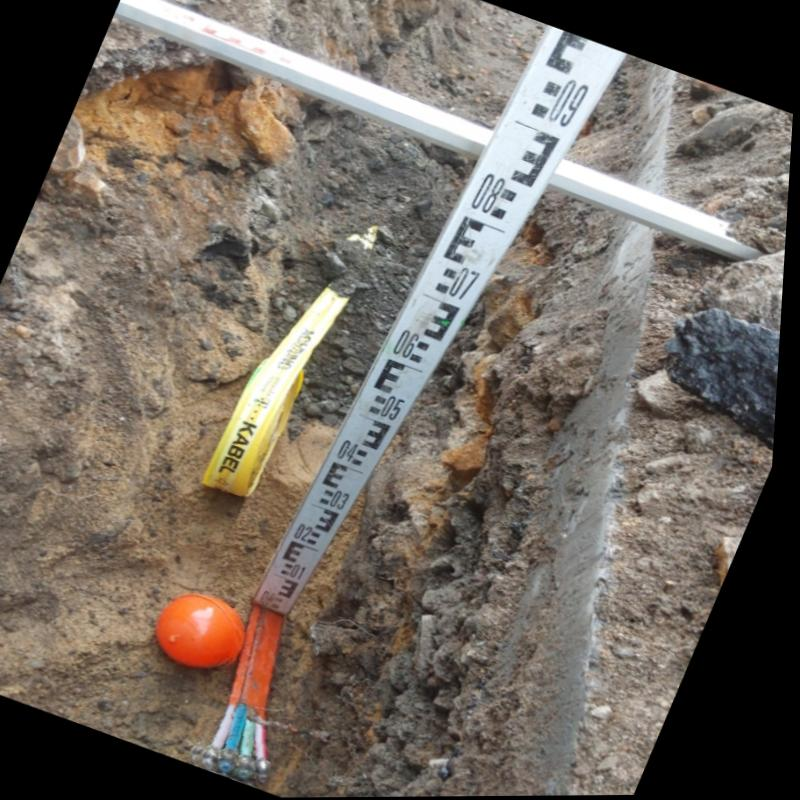Kugelmarker: (160, 594, 252, 676)
Orang-Speednetrohrchen: (204, 603, 299, 790)
